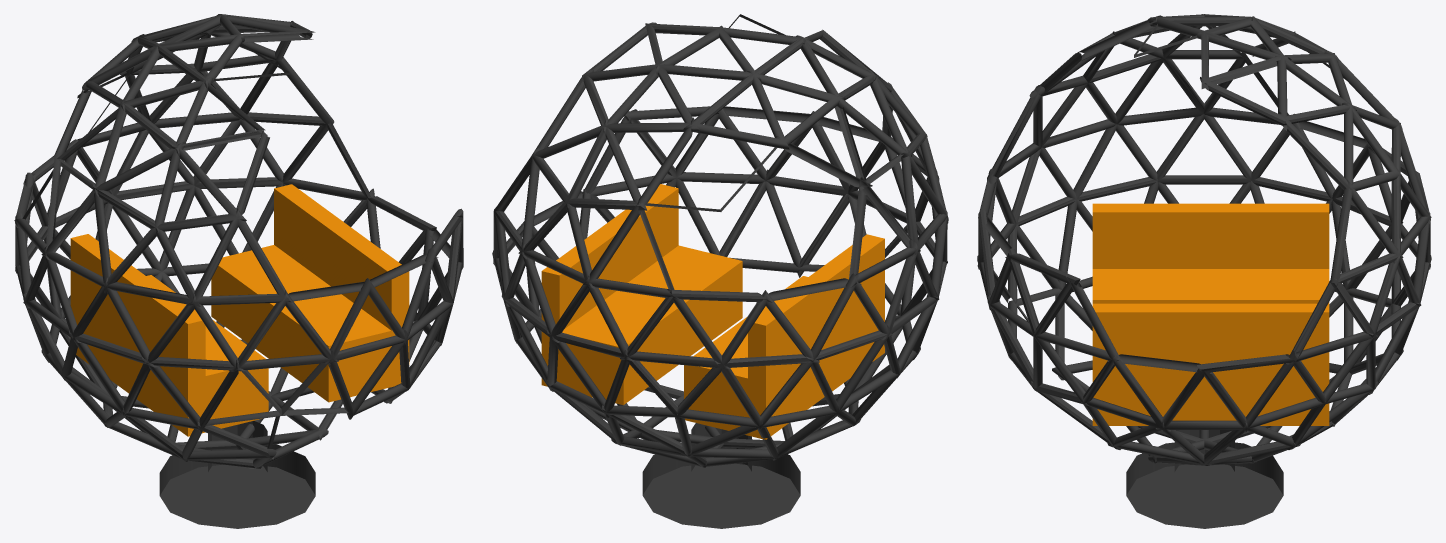
The model's file is 08 Carousel_3.FBX.
The picture shows the model from 3 angles, left to right: view 1: azimuth 30°, elevation 25°; view 2: azimuth 150°, elevation 25°; view 3: azimuth 270°, elevation 25°; orthographic projection.
Parts seen in each view (by area): view 1: Carousel_3; view 2: Carousel_3; view 3: Carousel_3.
Boxes of the visible parts, x1,y1,x2,y2 form: Carousel_3: [14, 14, 463, 528]; Carousel_3: [492, 14, 948, 528]; Carousel_3: [977, 14, 1431, 528].
Bounding box in the file's own units: 1452 × 1638 × 1451.
